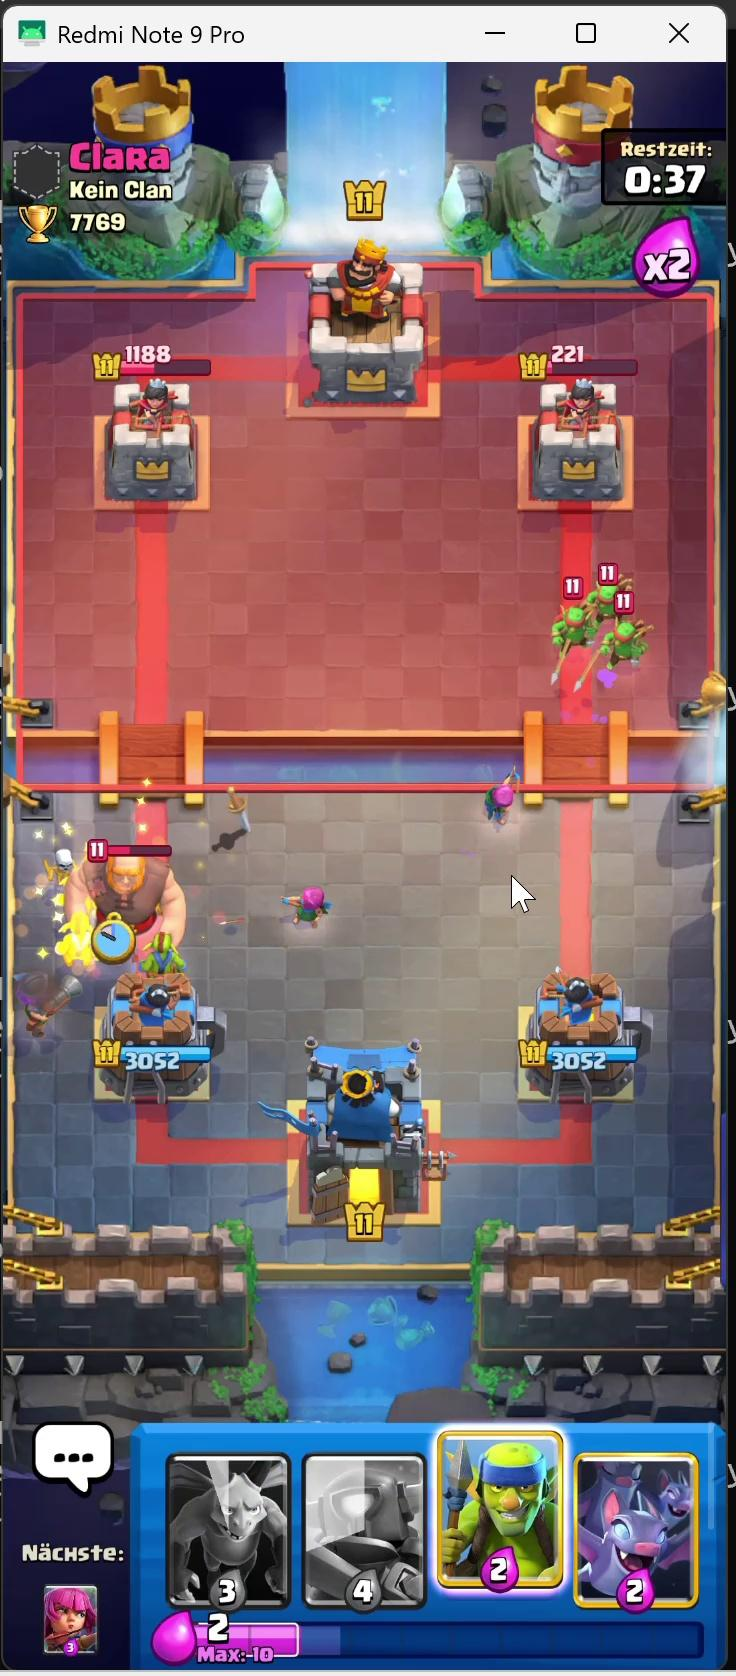archere: (292, 881, 332, 937), (483, 778, 529, 821)
geant: (80, 851, 179, 963)
gobelin: (57, 919, 99, 979), (144, 940, 183, 979)
gobelin_lances: (606, 625, 647, 671), (591, 580, 628, 616), (554, 604, 593, 638)
mousquetaire: (13, 973, 65, 1044)
squelette: (51, 845, 79, 887)
